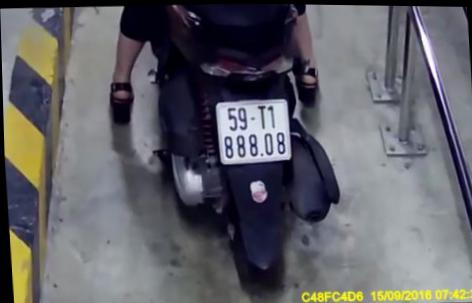LP: (213, 94, 292, 166)
